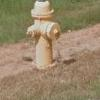Hydrant: (17, 5, 70, 68)
